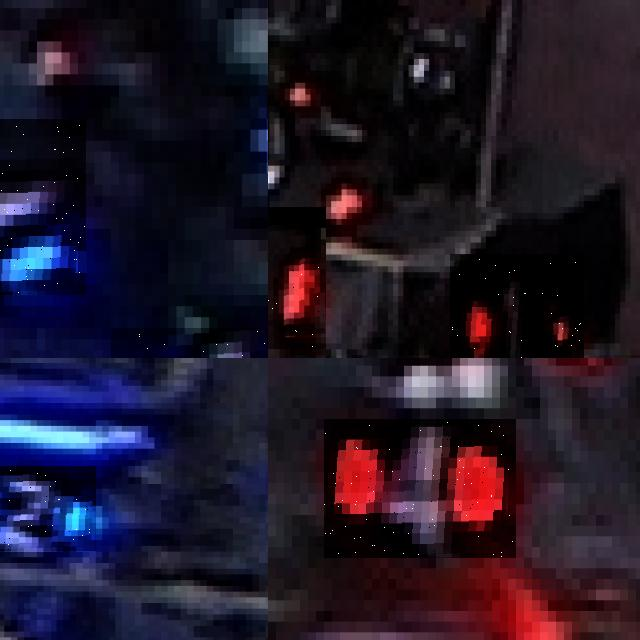B2: (0, 465, 95, 551)
B4: (0, 118, 86, 295)
R1: (450, 254, 584, 358), (268, 207, 326, 349)
R4: (324, 419, 516, 558)
